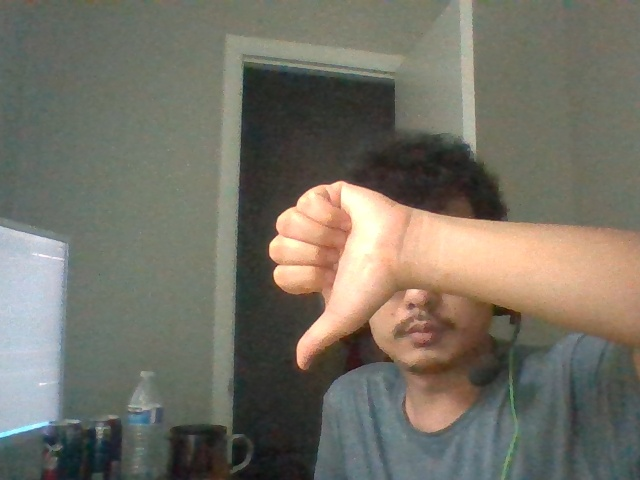ThumbsDown: (269, 180, 408, 372)
